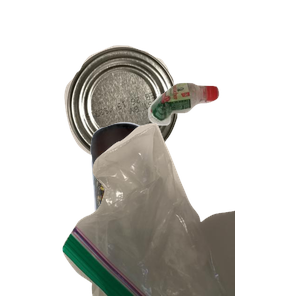glass: (88, 120, 252, 300)
metal: (62, 43, 232, 198)
plastic: (146, 80, 300, 198)
trash: (60, 120, 300, 300)
